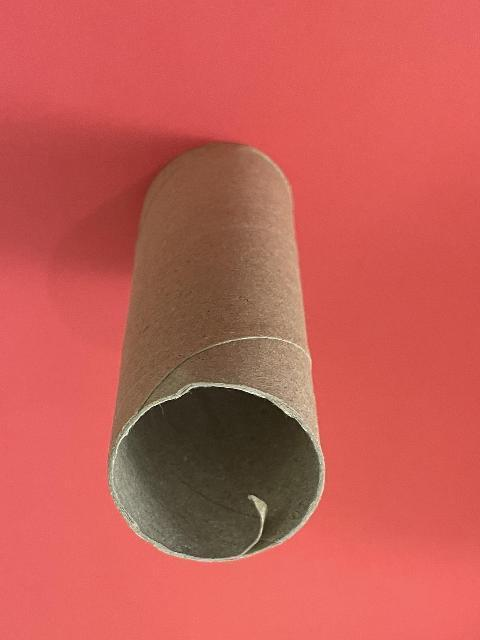tissueroll: (106, 141, 326, 564)
